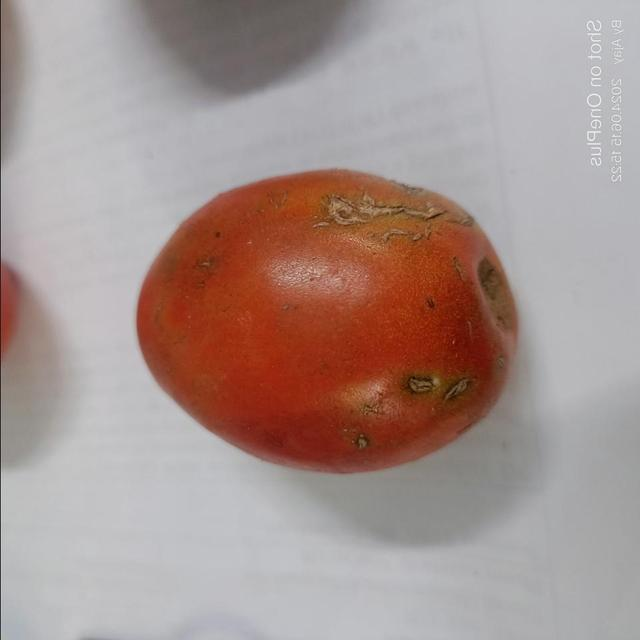Cracking Fruit: (117, 75, 423, 223)
